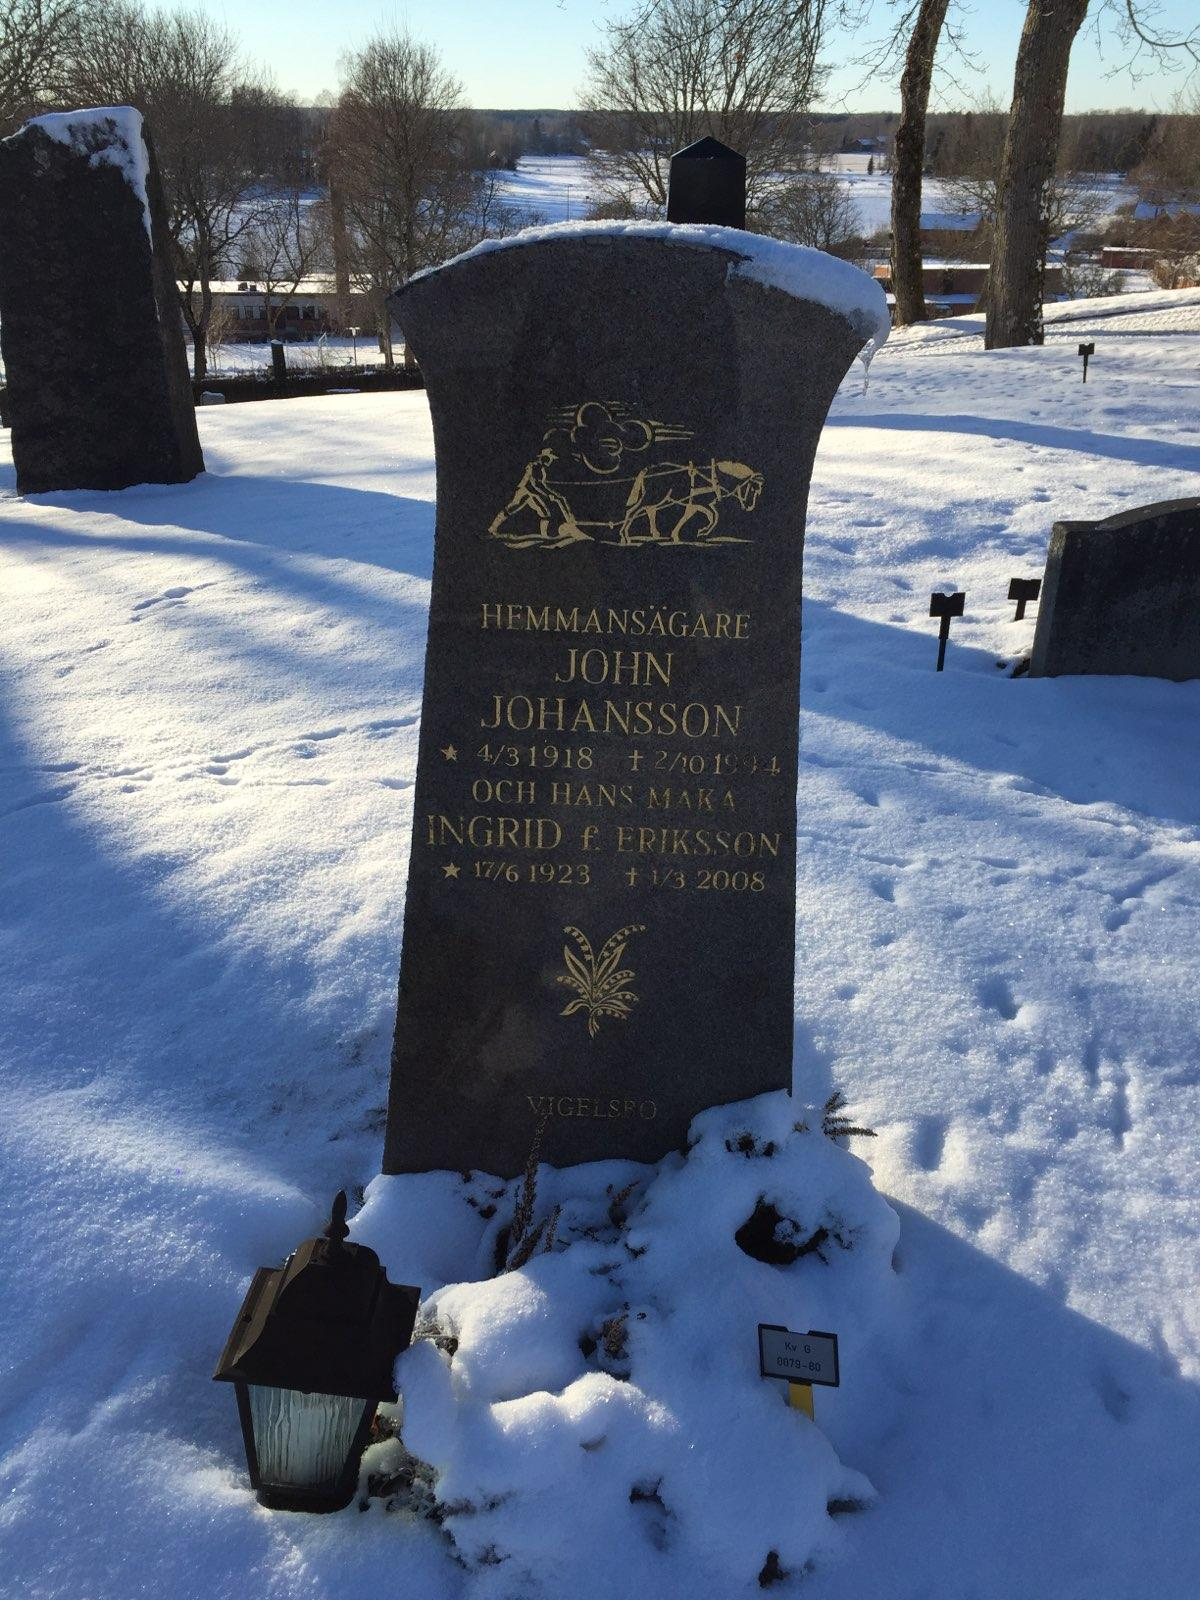upright: (384, 219, 894, 1174)
